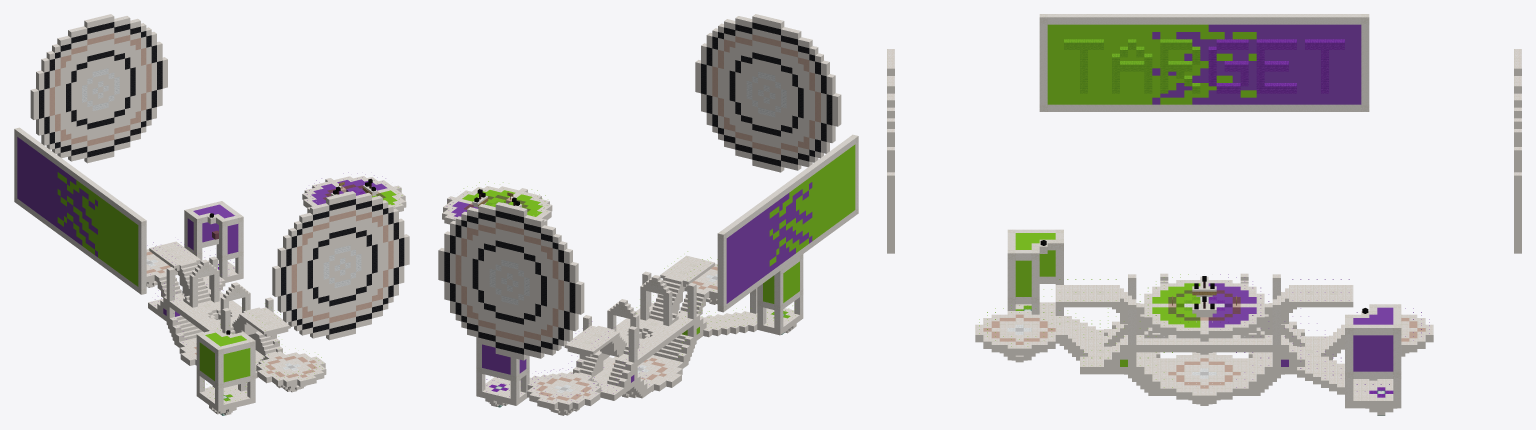
File: minecraft.obj
3 views of the same model, side by side, from view 1: azimuth 30°, elevation 25°; view 2: azimuth 150°, elevation 25°; view 3: azimuth 270°, elevation 25° (orthographic). The views are drawn at different scales.
Size of the model in its own units: 60 by 47 by 79.
